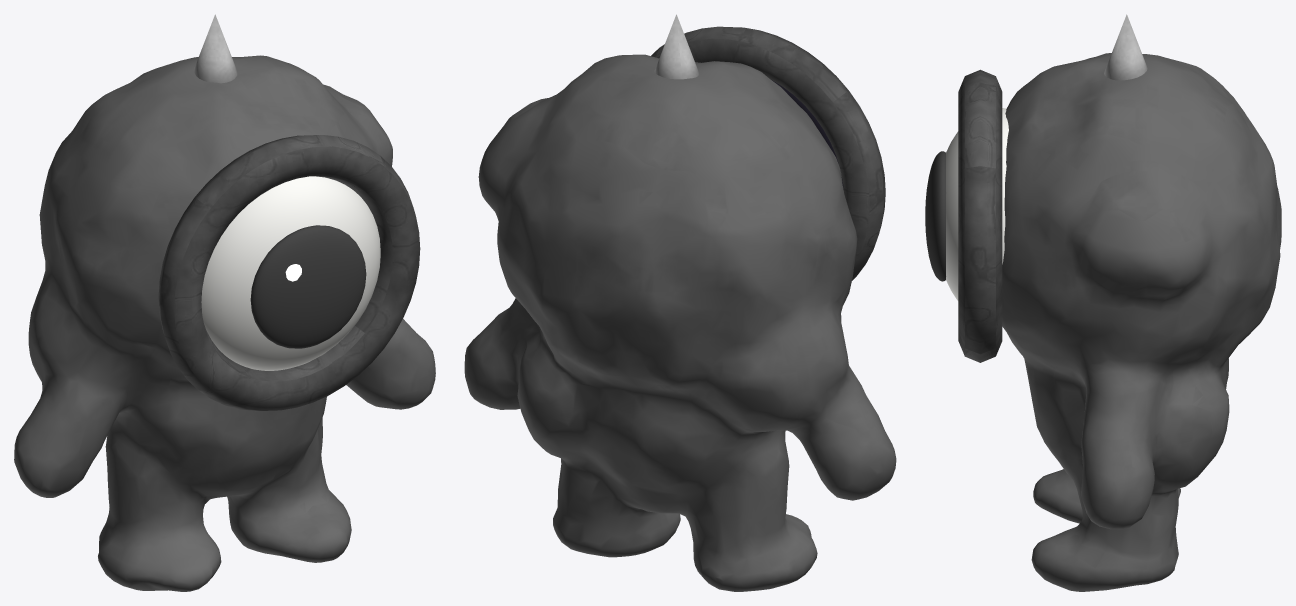
The picture shows the model from 3 angles, left to right: view 1: azimuth 30°, elevation 25°; view 2: azimuth 150°, elevation 25°; view 3: azimuth 270°, elevation 25°; orthographic projection. The views are drawn at different scales.
Visible parts, largest first — view 1: Body, Hood, Sclera, Iris, Horn; view 2: Body, Hood, Horn; view 3: Body, Hood, Sclera, Iris, Horn.
Boxes of the visible parts, x1=… form: Body: x1=14, y1=55, x2=435, y2=591; Hood: x1=158, y1=135, x2=420, y2=411; Sclera: x1=201, y1=176, x2=380, y2=370; Iris: x1=250, y1=225, x2=366, y2=348; Horn: x1=194, y1=14, x2=237, y2=83; Body: x1=464, y1=54, x2=896, y2=591; Hood: x1=651, y1=26, x2=885, y2=280; Horn: x1=654, y1=14, x2=699, y2=79; Body: x1=1002, y1=53, x2=1281, y2=591; Hood: x1=958, y1=69, x2=1002, y2=362; Sclera: x1=946, y1=108, x2=1008, y2=300; Iris: x1=925, y1=151, x2=945, y2=281; Horn: x1=1104, y1=14, x2=1147, y2=80.
Bounding box in the file's own units: 0.6757 × 0.8509 × 0.5114.
8 materials, 3 textured.
